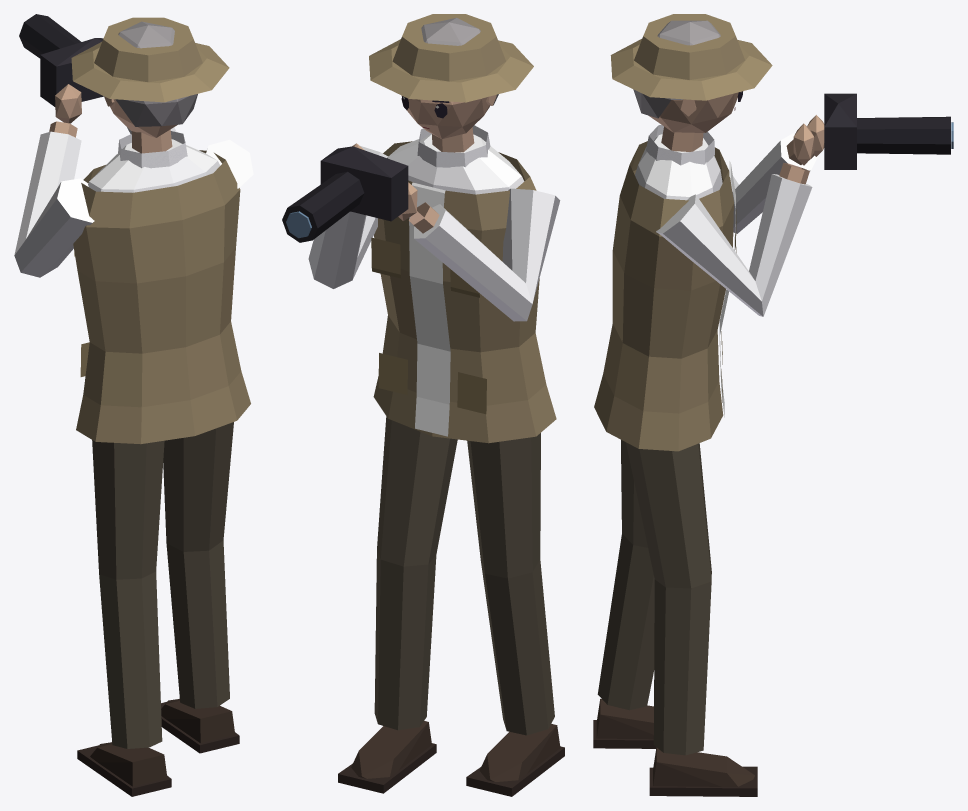
The model's file is spectator_d.glb.
3 views of the same model, side by side, from view 1: azimuth 30°, elevation 25°; view 2: azimuth 150°, elevation 25°; view 3: azimuth 270°, elevation 25° (orthographic). The views are drawn at different scales.
Parts seen in each view (by area): view 1: spectator_d; view 2: spectator_d; view 3: spectator_d.
Boxes of the visible parts, bbox=[...] form: spectator_d: bbox=[14, 14, 253, 796]; spectator_d: bbox=[282, 14, 564, 796]; spectator_d: bbox=[593, 14, 953, 796].
Bounding box in the file's own units: 0.5194 × 1.74 × 0.768.
